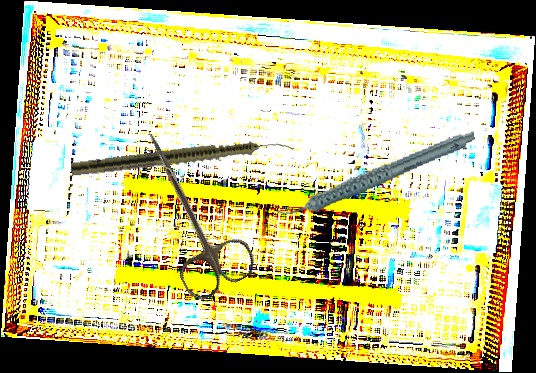Handpiece: (268, 129, 483, 218), (70, 134, 295, 180)
Iris Scissors: (114, 118, 261, 305)
